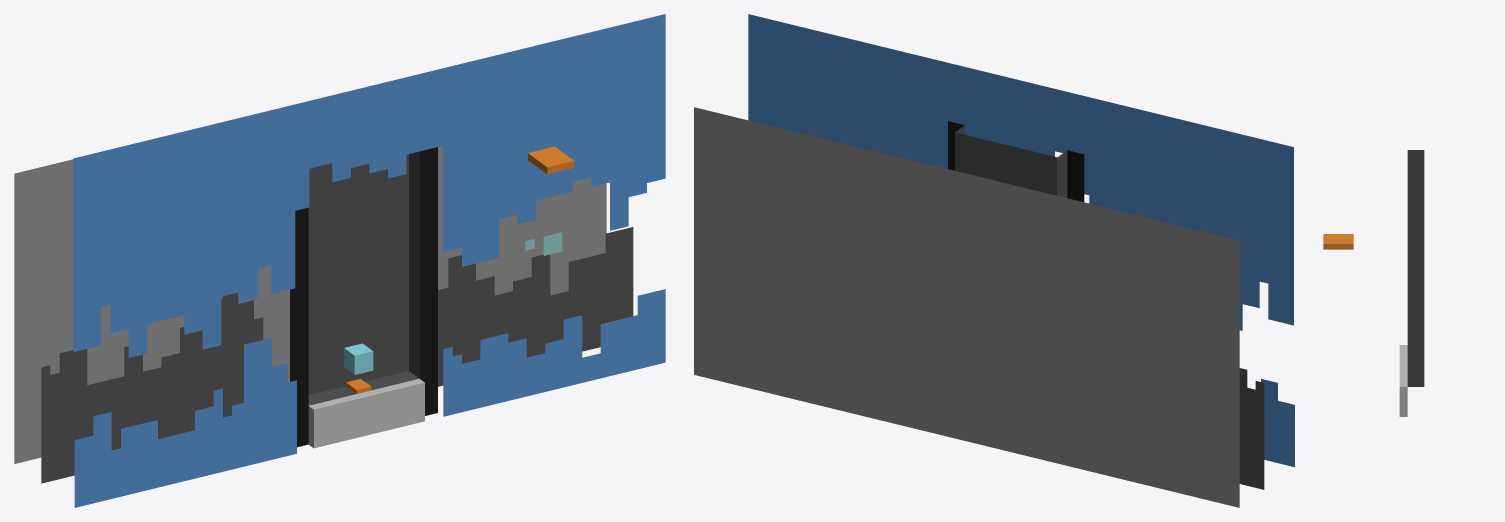
File: Bloc Flex's.fbx
3 renders of one model, left to right at view 1: azimuth 30°, elevation 25°; view 2: azimuth 150°, elevation 25°; view 3: azimuth 270°, elevation 25°, orthographic. The views are drawn at different scales.
Visible parts, largest first — view 1: Forground Piece 1, Stage, Background Piece 3, Background Piece 2, Forground Piece 3, Background piece1, Forground Piece 2, Life, EnemyBlock; view 2: Background Piece 3, Forground Piece 1, Stage, Background Piece 2, Forground Piece 3; view 3: Stage, Life.
Boxes of the visible parts, x1,y1,x2,y2 form: Forground Piece 1: [73, 14, 665, 357]; Stage: [290, 147, 437, 448]; Background Piece 3: [14, 146, 606, 463]; Background Piece 2: [41, 292, 263, 483]; Forground Piece 3: [74, 338, 296, 507]; Background piece1: [438, 227, 633, 386]; Forground Piece 2: [443, 289, 665, 416]; Life: [528, 146, 574, 174]; EnemyBlock: [344, 343, 373, 374]; Background Piece 3: [694, 107, 1239, 507]; Forground Piece 1: [748, 14, 1293, 330]; Stage: [948, 121, 1084, 202]; Background Piece 2: [1239, 368, 1264, 489]; Forground Piece 3: [1261, 379, 1294, 467]; Stage: [1399, 150, 1424, 416]; Life: [1323, 234, 1353, 249].
Bounding box in the file's own units: 6400 × 3600 × 2019.
